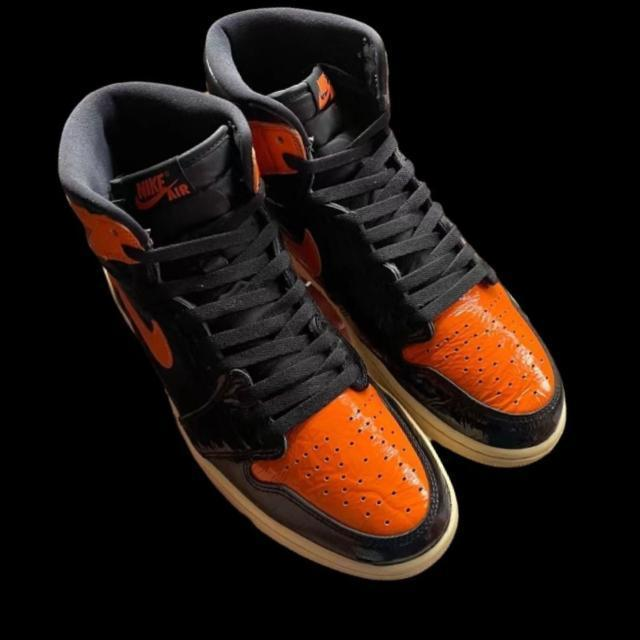nike original jordan 1: (39, 23, 487, 637), (192, 0, 594, 518)
